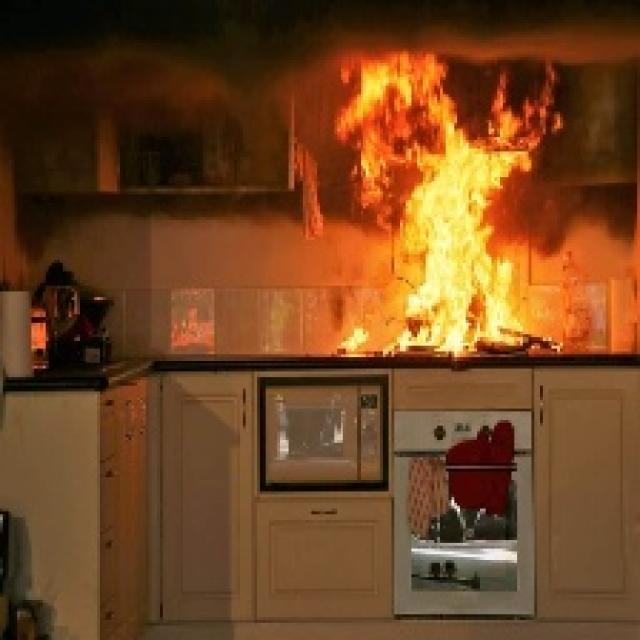Fire: (336, 59, 560, 352)
